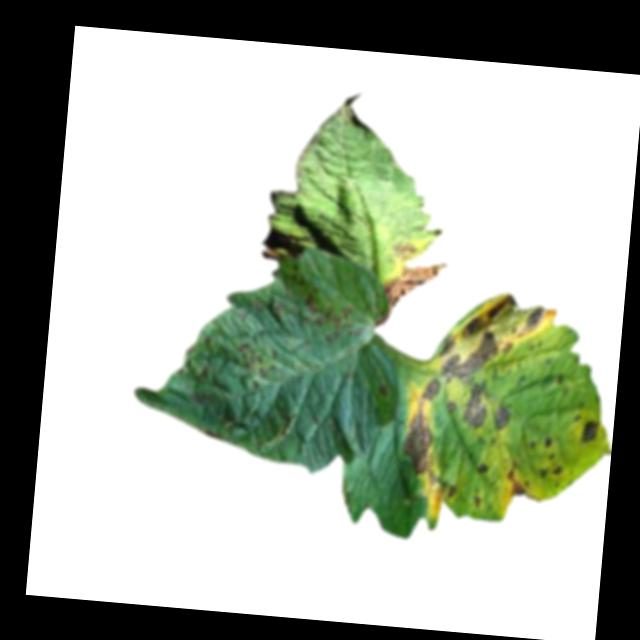Early_blight: (433, 286, 556, 391), (379, 259, 445, 331), (298, 290, 366, 342), (399, 402, 442, 476), (237, 337, 282, 390), (461, 380, 492, 431), (505, 462, 531, 499), (420, 374, 442, 403), (537, 462, 564, 483), (493, 404, 514, 431), (580, 417, 601, 443), (394, 239, 416, 259), (445, 480, 459, 499), (542, 433, 555, 449), (377, 381, 390, 395), (473, 493, 484, 509), (477, 460, 490, 473), (448, 399, 456, 411)
